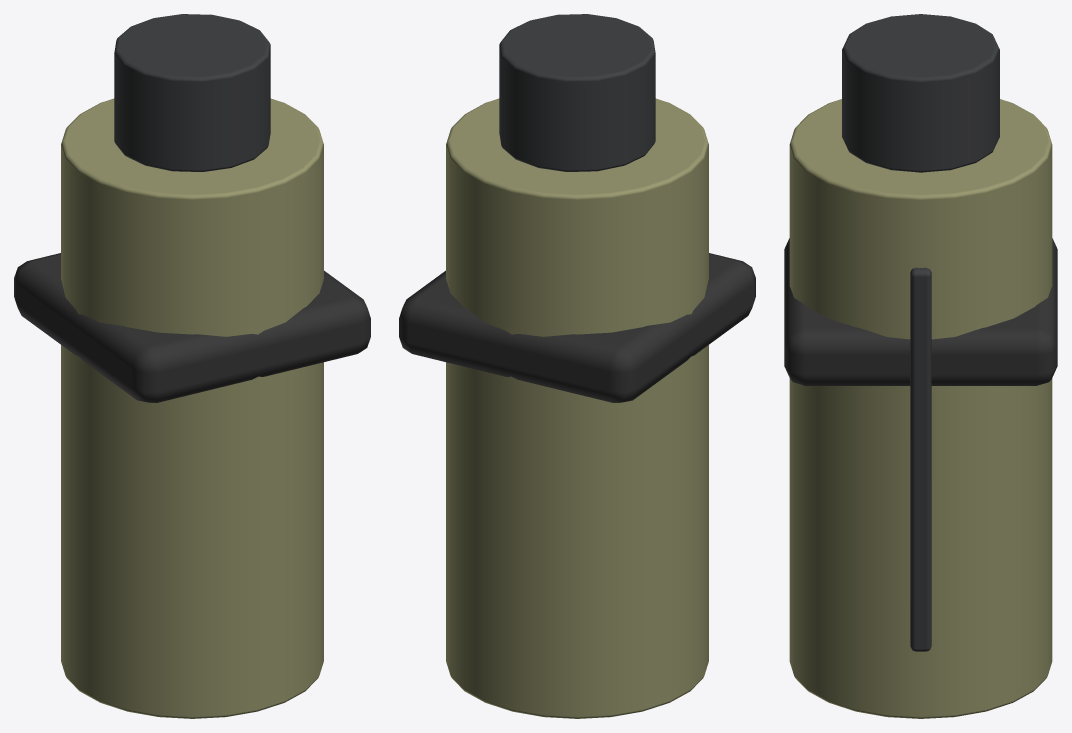
The model's file is dazer.glb.
3 renders of one model, left to right at view 1: azimuth 30°, elevation 25°; view 2: azimuth 150°, elevation 25°; view 3: azimuth 270°, elevation 25°, orthographic.
Parts seen in each view (by area): view 1: Body, Top, Band; view 2: Body, Top, Band; view 3: Body, Top, Band, Spoon.
Part boxes in pixels (box(x1,y1,x2,y2)): Body: box(61, 98, 323, 718); Top: box(114, 14, 270, 171); Band: box(14, 253, 370, 402); Body: box(446, 98, 708, 718); Top: box(499, 14, 655, 171); Band: box(399, 253, 755, 402); Body: box(789, 99, 1052, 718); Top: box(842, 14, 999, 172); Band: box(784, 238, 1057, 385); Spoon: box(910, 267, 931, 651).
Size of the model in its own units: 0.053 by 0.13 by 0.052.
